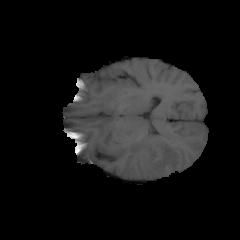glioma: (126, 131, 183, 176)
